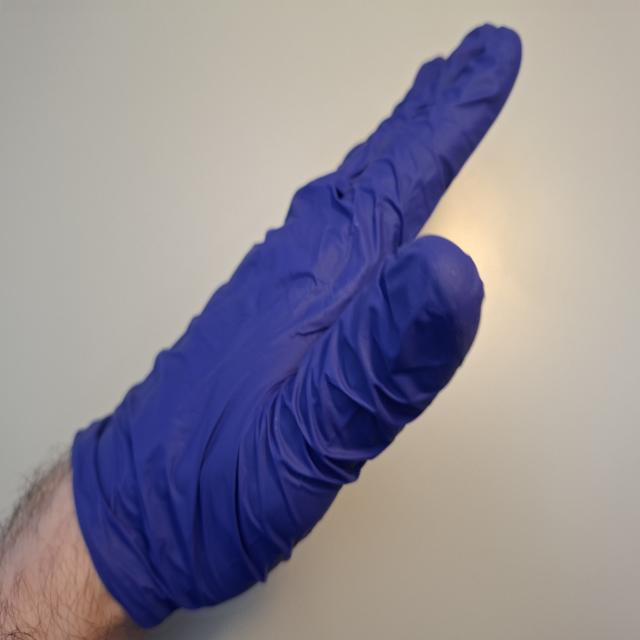glove_on: (70, 18, 524, 637)
